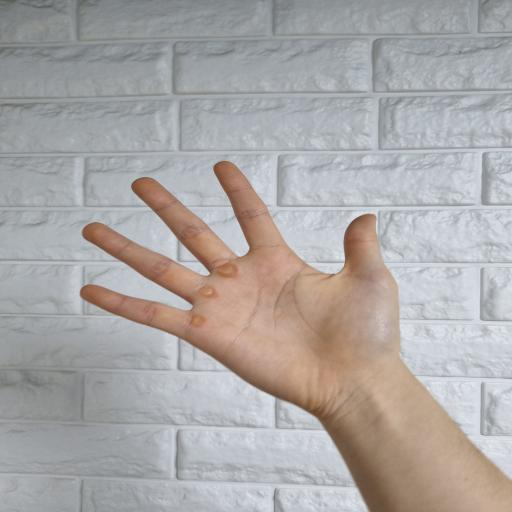Paper: (80, 157, 400, 415)
